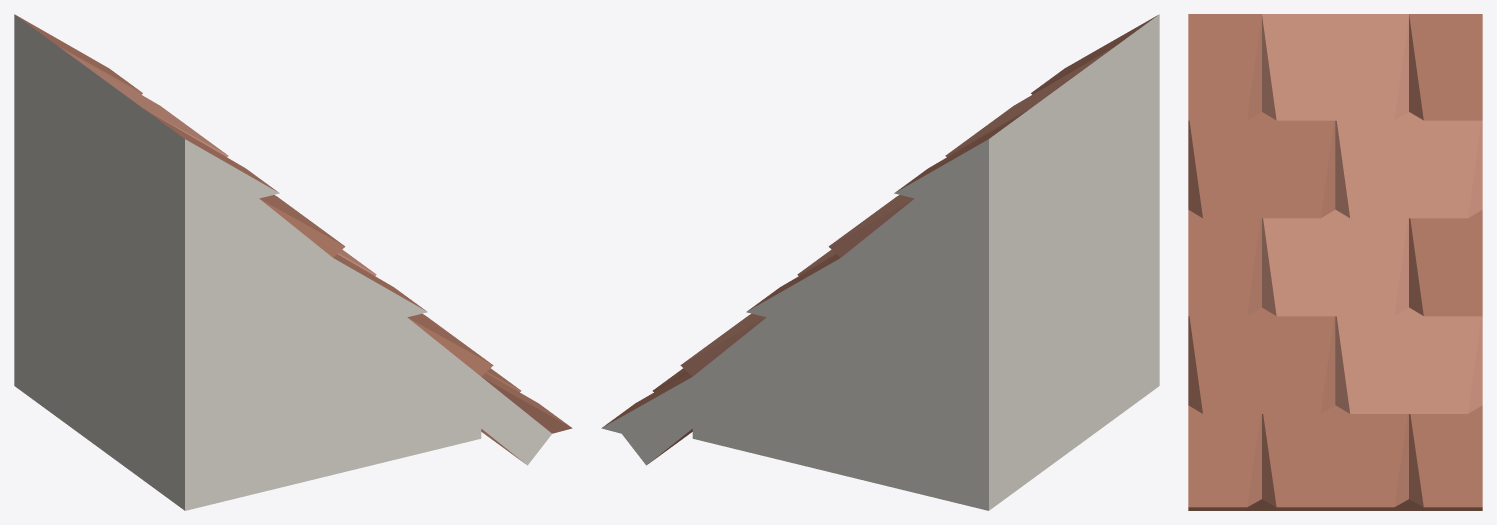
Rendered from Roof_Straight_Side_Eave.glb.
The picture shows the model from 3 angles, left to right: view 1: azimuth 30°, elevation 25°; view 2: azimuth 150°, elevation 25°; view 3: azimuth 270°, elevation 25°; orthographic projection. The views are drawn at different scales.
Parts seen in each view (by area): view 1: object1; view 2: object1; view 3: object1.
Part boxes in pixels (x1,y1,x2,y2): object1: [14, 14, 572, 510]; object1: [601, 14, 1159, 510]; object1: [1188, 14, 1482, 510].
Bounding box in the file's own units: 1.31 × 1.32 × 1.
